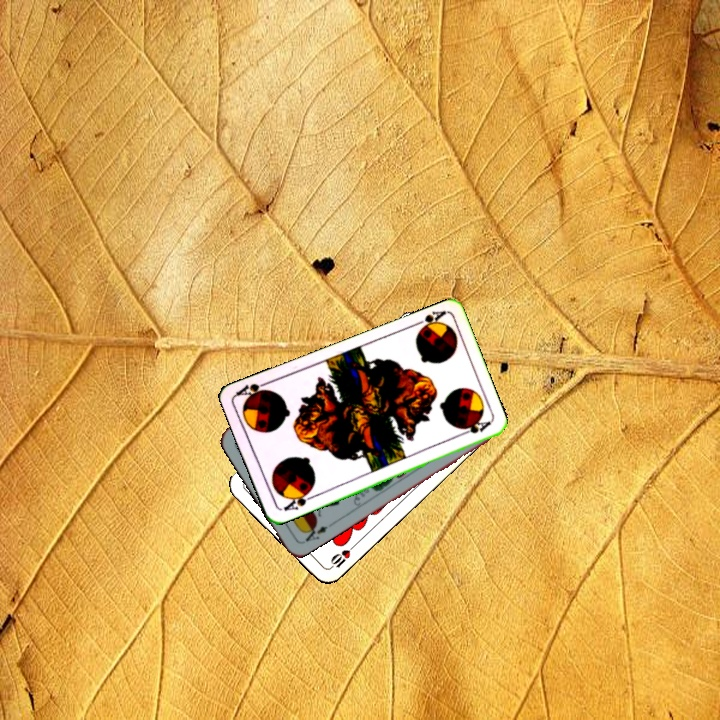EA: (298, 519, 330, 546)
H10: (324, 541, 358, 572)
SA: (409, 307, 448, 336), (279, 486, 317, 514)
